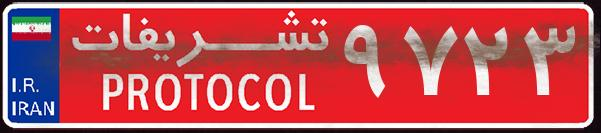2: (460, 20, 520, 115)
3: (520, 20, 580, 115)
7: (400, 20, 460, 115)
9: (340, 20, 400, 115)
تشریفات: (60, 8, 340, 125)
